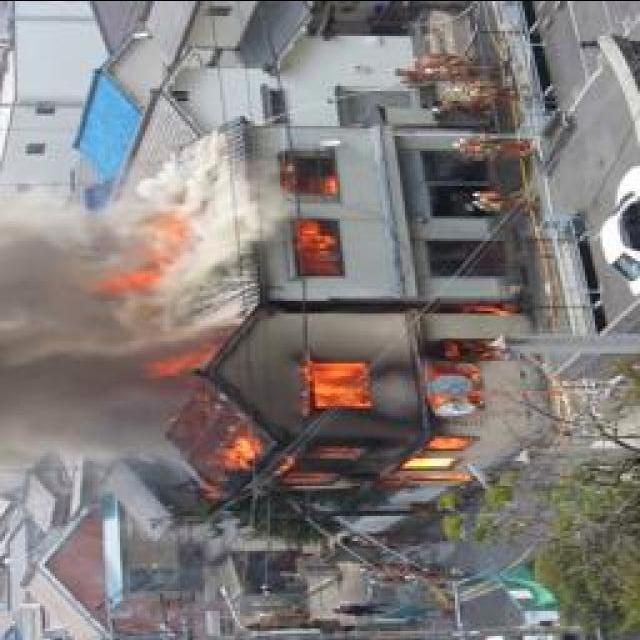Fire: (180, 336, 488, 490), (288, 149, 338, 277), (86, 253, 169, 294)
